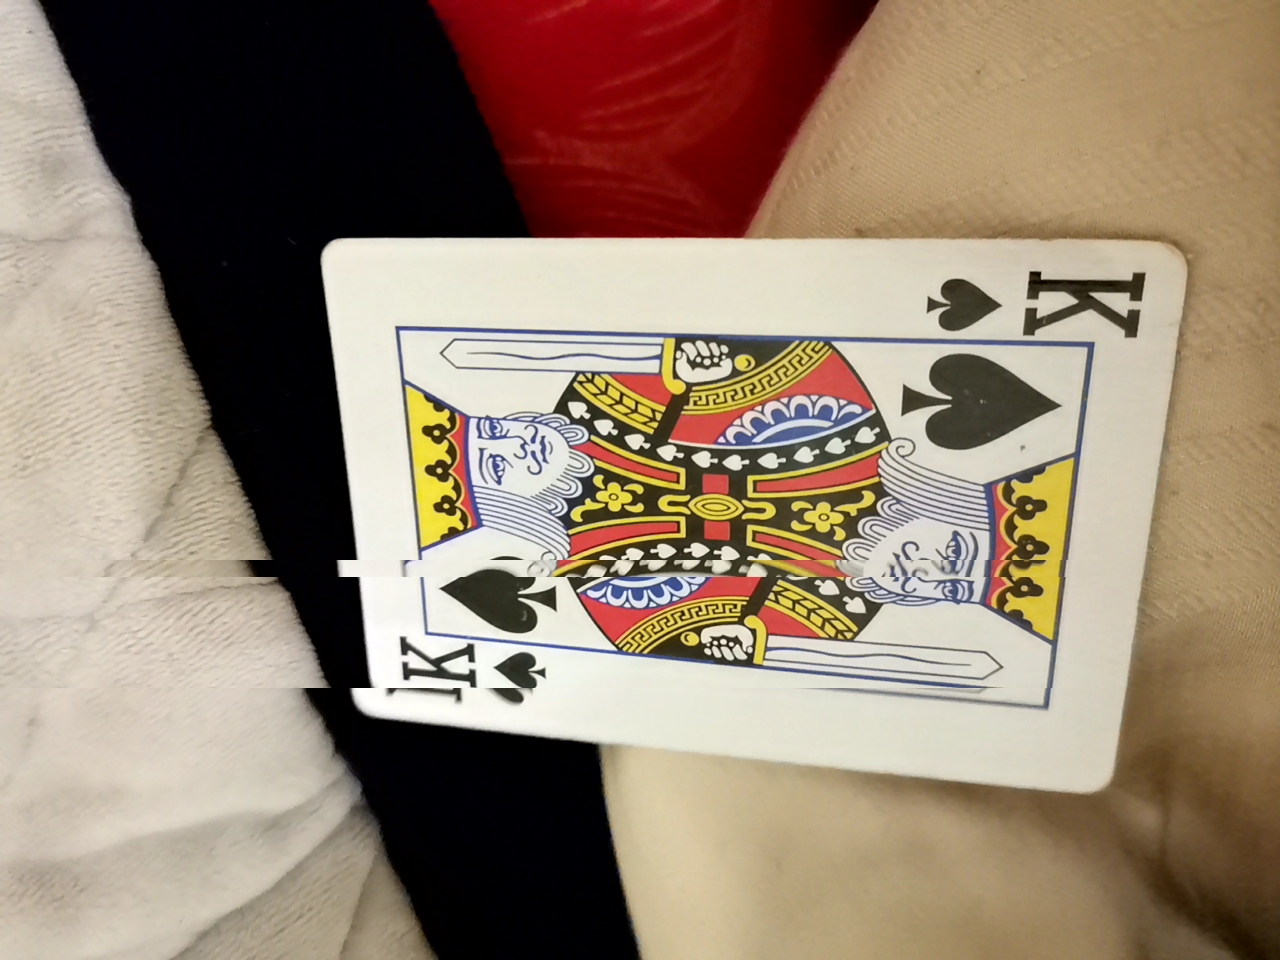ht k: (309, 223, 1171, 796)
